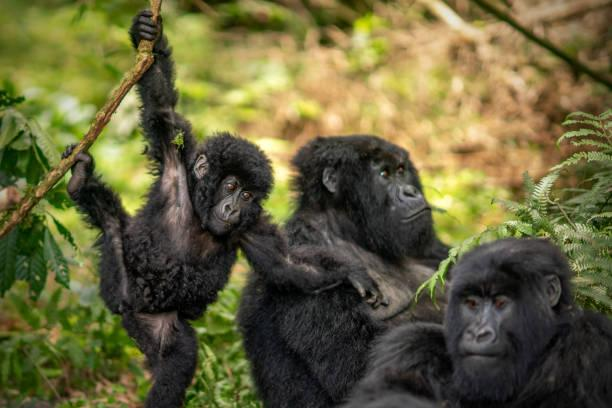goriile_montagne: (60, 36, 259, 406), (266, 138, 483, 406), (361, 235, 612, 408)
